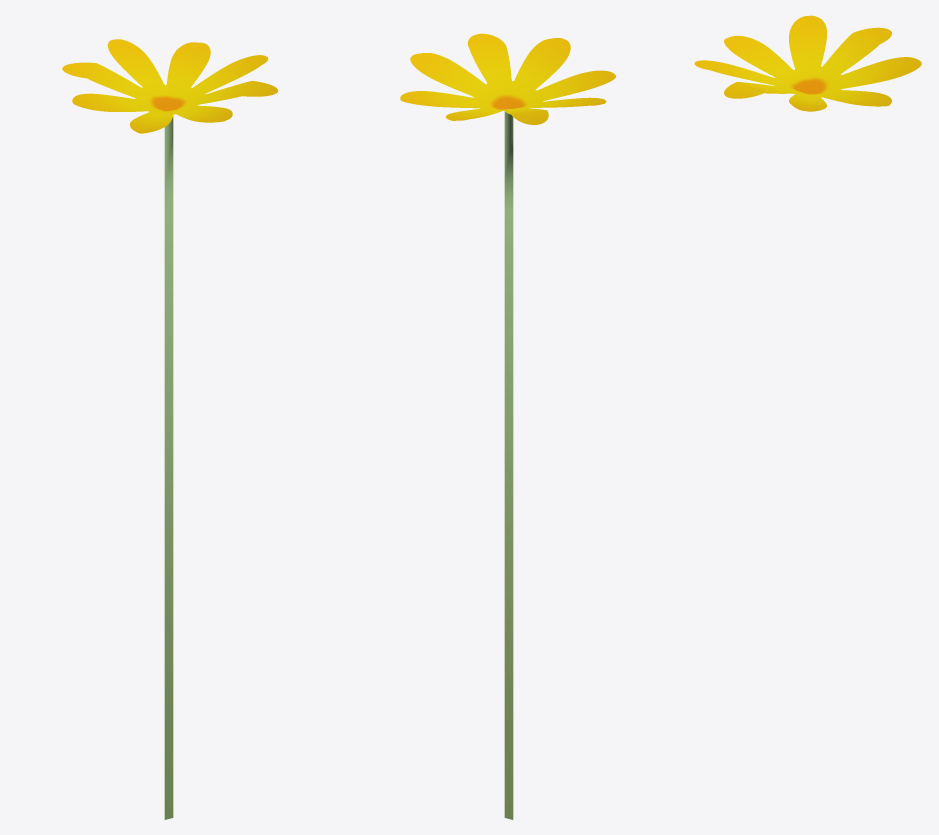
File: Flower_03.fbx
The picture shows the model from 3 angles, left to right: view 1: azimuth 30°, elevation 25°; view 2: azimuth 150°, elevation 25°; view 3: azimuth 270°, elevation 25°; orthographic projection.
Visible parts, largest first — view 1: Flower_03; view 2: Flower_03; view 3: Flower_03.
Boxes of the visible parts, x1,y1,x2,y2 form: Flower_03: [62, 39, 278, 819]; Flower_03: [400, 33, 616, 819]; Flower_03: [694, 15, 921, 111].
Bounding box in the file's own units: 10.49 × 37.6 × 10.49.
